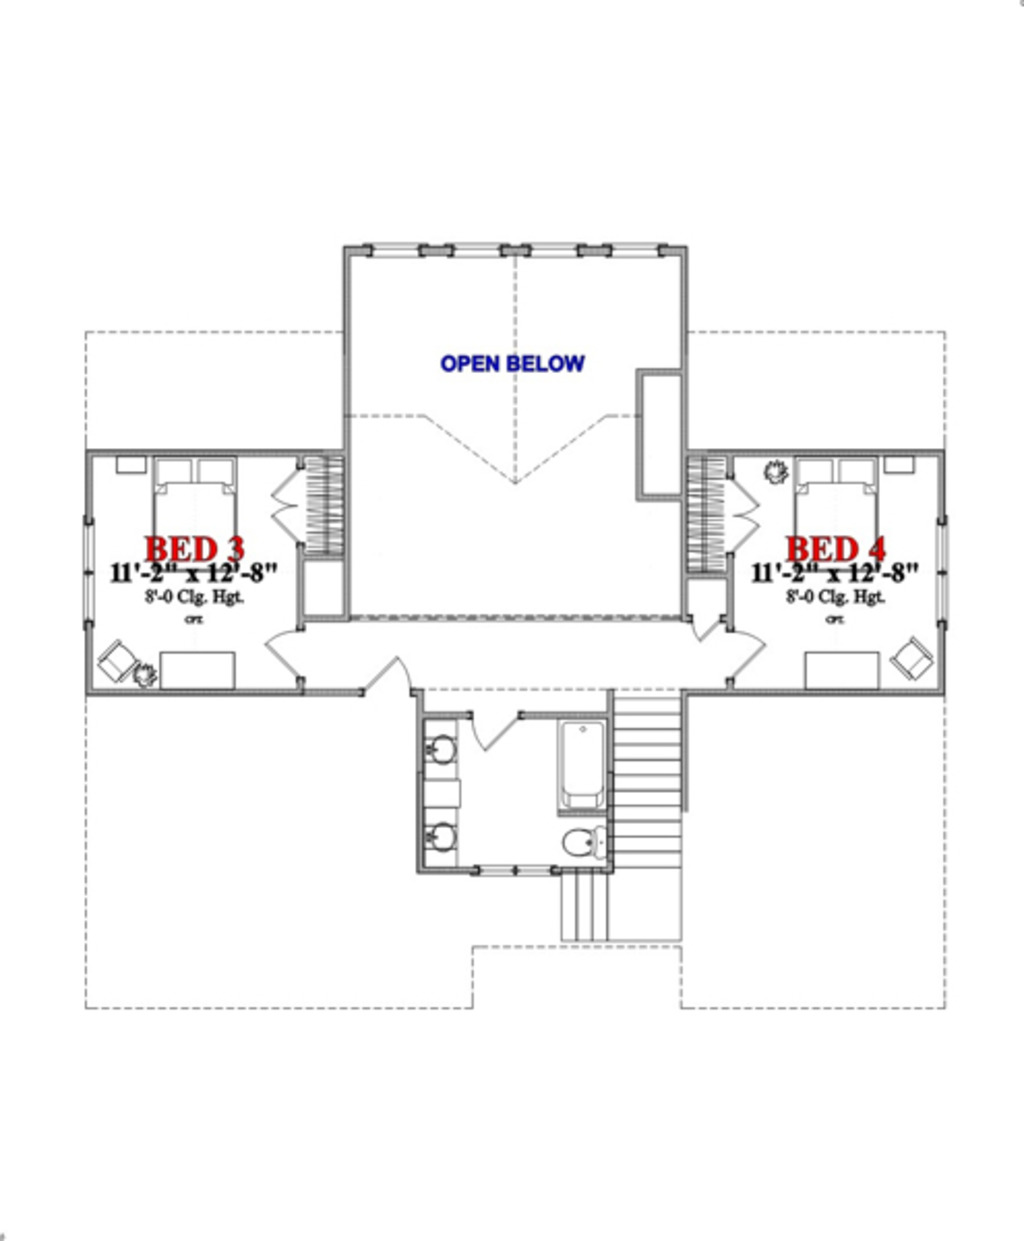door: (266, 468, 311, 549), (260, 622, 308, 684), (361, 650, 416, 704), (722, 620, 768, 683), (732, 476, 764, 550), (465, 709, 522, 749)
large_sink: (557, 824, 610, 863)
small_sink: (416, 801, 456, 866), (420, 720, 462, 779)
small_sofa: (889, 638, 937, 682), (97, 638, 137, 680)
tub: (551, 714, 612, 816)
windows: (361, 235, 668, 263), (931, 517, 956, 629), (76, 516, 99, 632)
